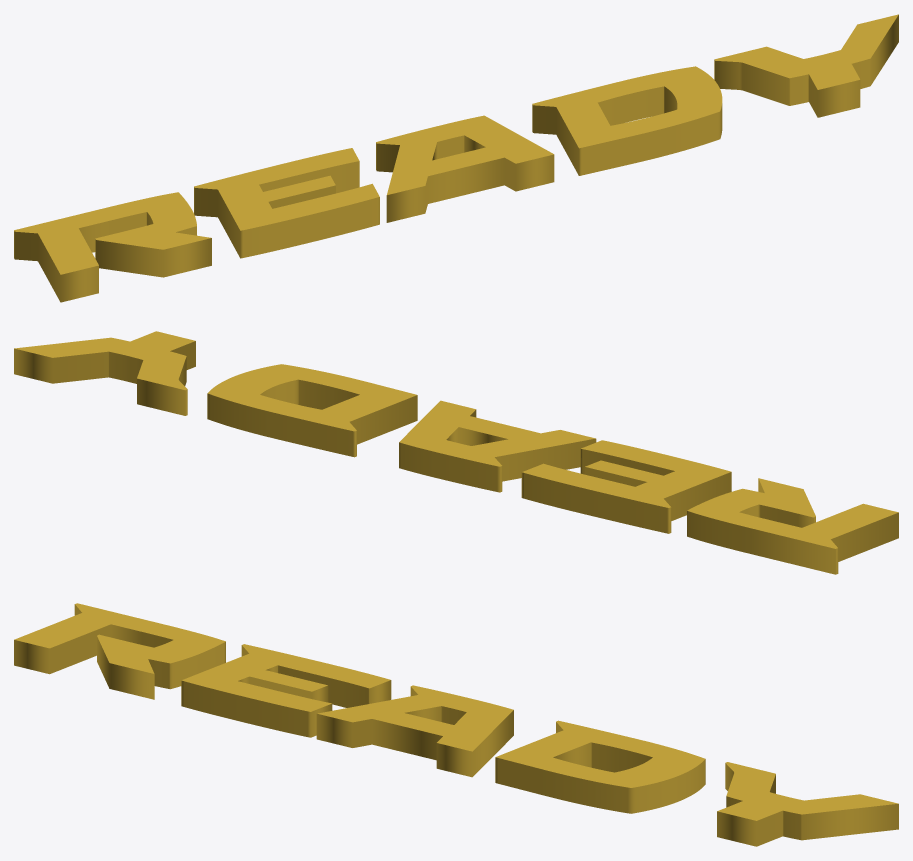
The model's file is READY.fbx.
3 renders of one model, top to bottom at view 1: azimuth 30°, elevation 25°; view 2: azimuth 150°, elevation 25°; view 3: azimuth 330°, elevation 25°, orthographic. The views are drawn at different scales.
Parts seen in each view (by area): view 1: 텍스트; view 2: 텍스트; view 3: 텍스트.
Part boxes in pixels (x1=…): 텍스트: x1=14, y1=14, x2=898, y2=302; 텍스트: x1=14, y1=331, x2=898, y2=574; 텍스트: x1=14, y1=603, x2=898, y2=846.
Size of the model in its own units: 540 by 16 by 61.73.
